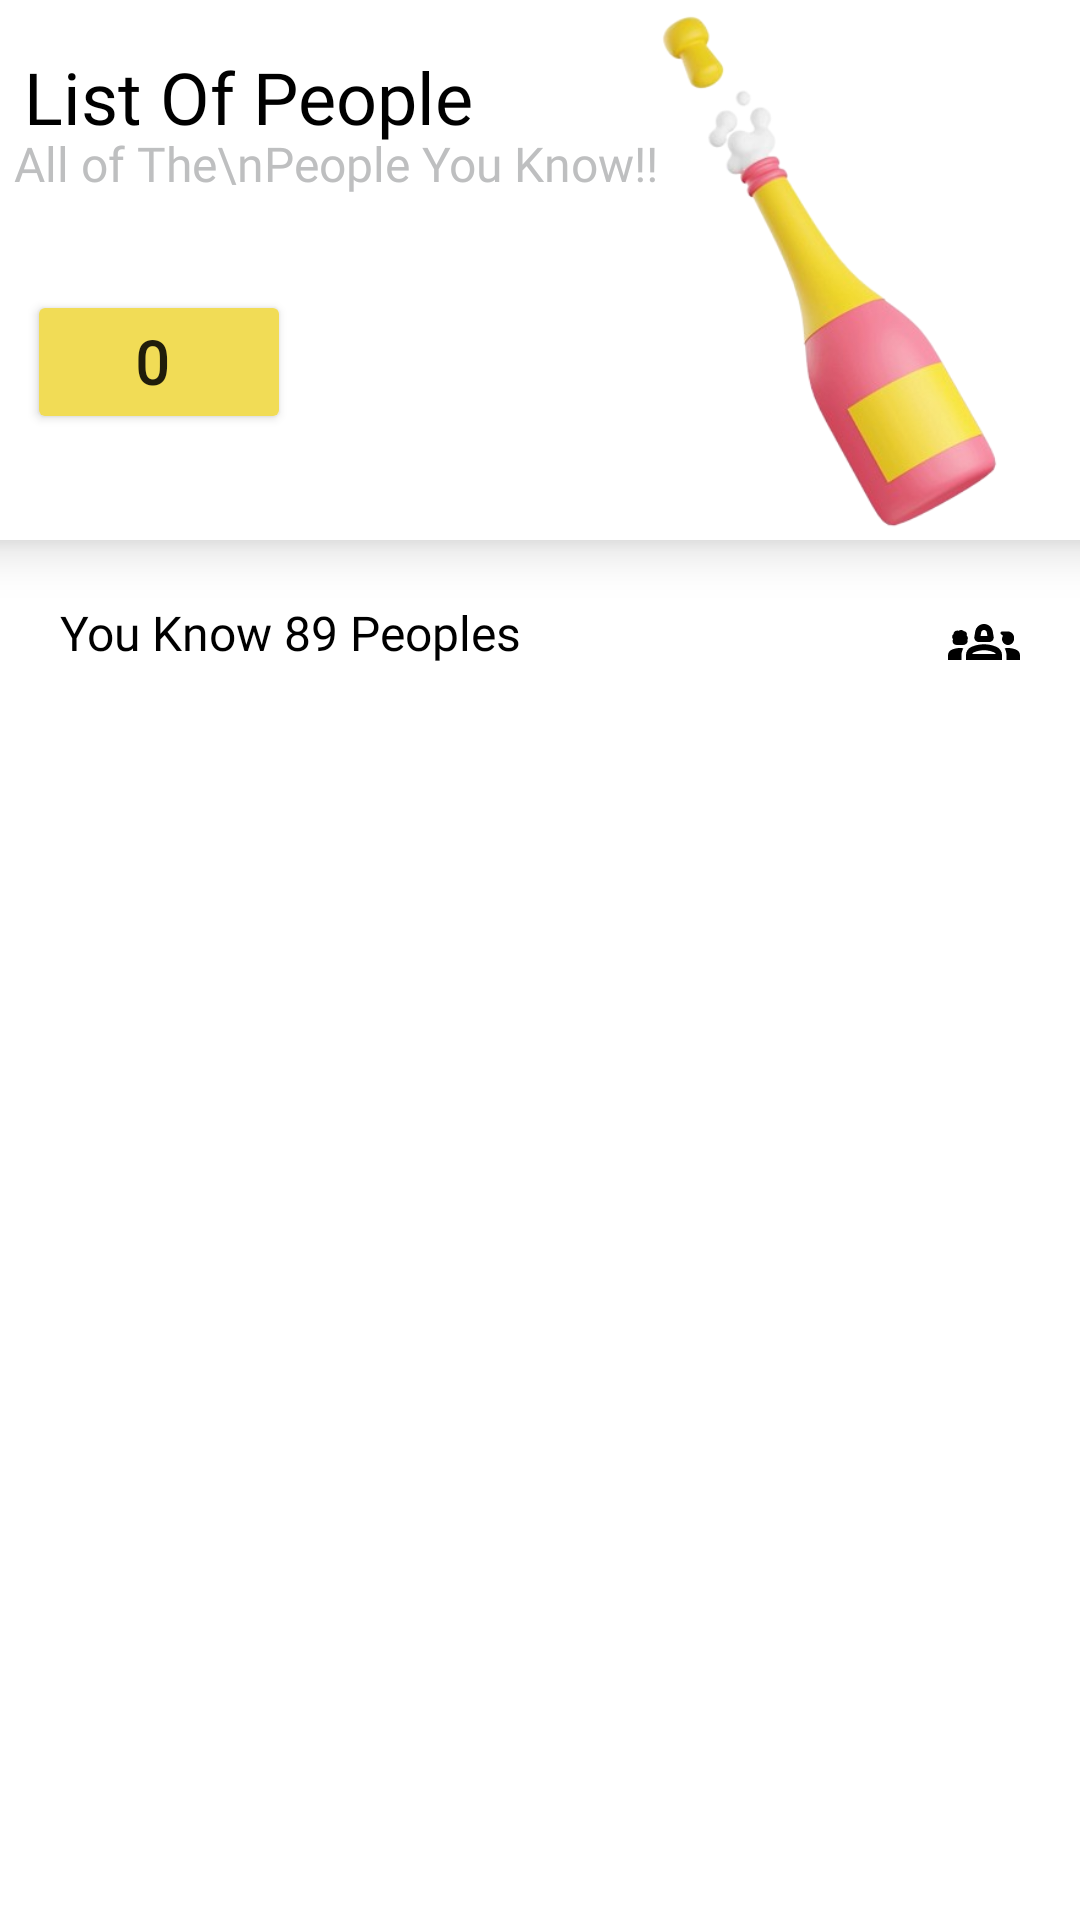

Where to tap for icons on this 1080 x 1920 app screen, as [x,y]:
groups: [984,642]
